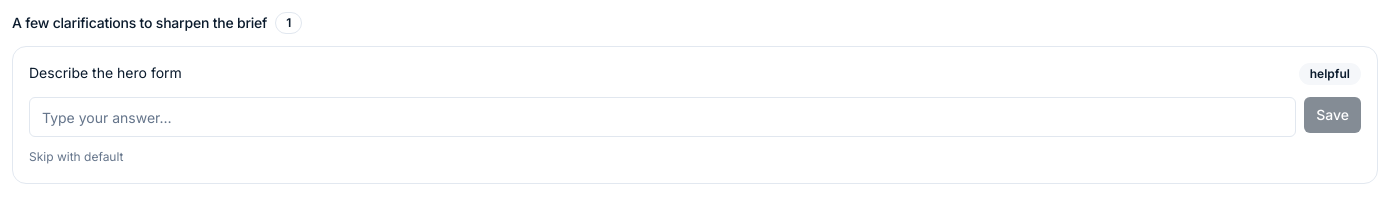
BriefClarification › clicking Edit returns the card to editable state with the prior value pre-filled
The image size is (1378, 201).
In the field with placeholder "Type your answer…": (663, 117) [29,97,1296,137], type "suspended mobius ribbon"
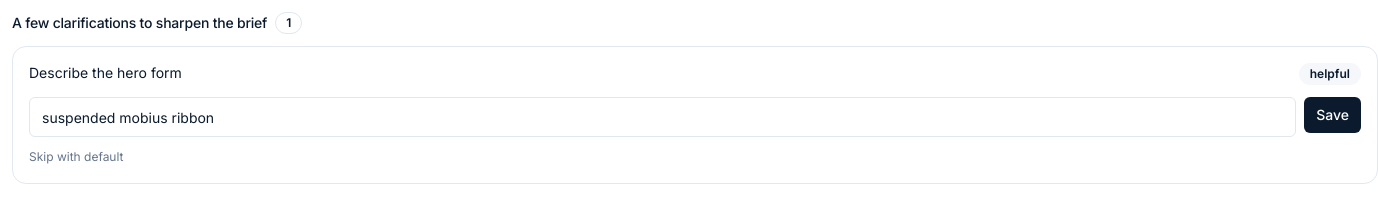
Click the button "Save": (1333, 115) [1304,97,1361,133]
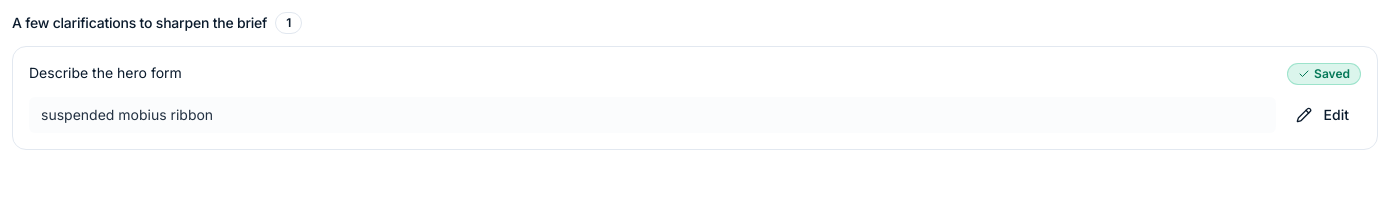
Click the button "Edit": (1322, 115) [1284,97,1361,133]
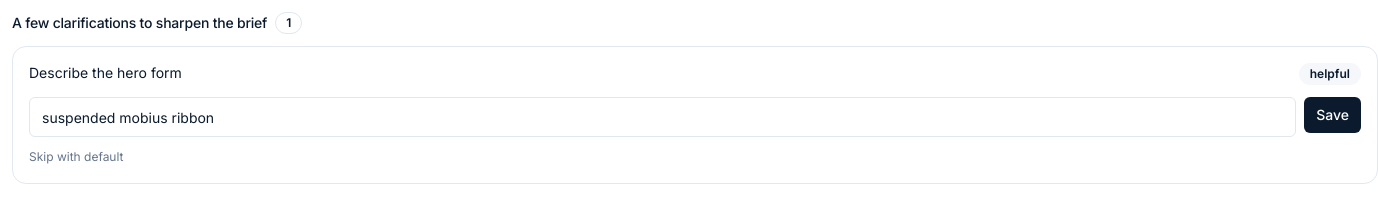
Now the field with placeholder "Type your answer…" holds "suspended mobius ribbon", box [29,97,1296,137]
Now the text "Saved" is gone
